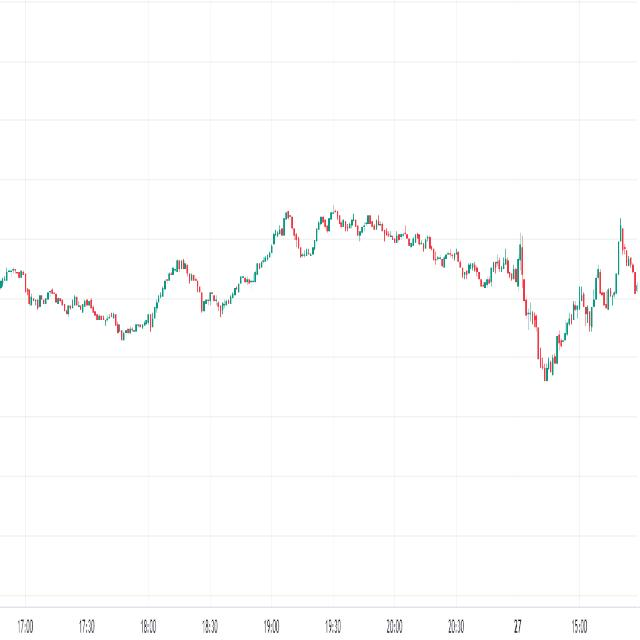Inverse-Head-Shoulders: (518, 239, 599, 403)
